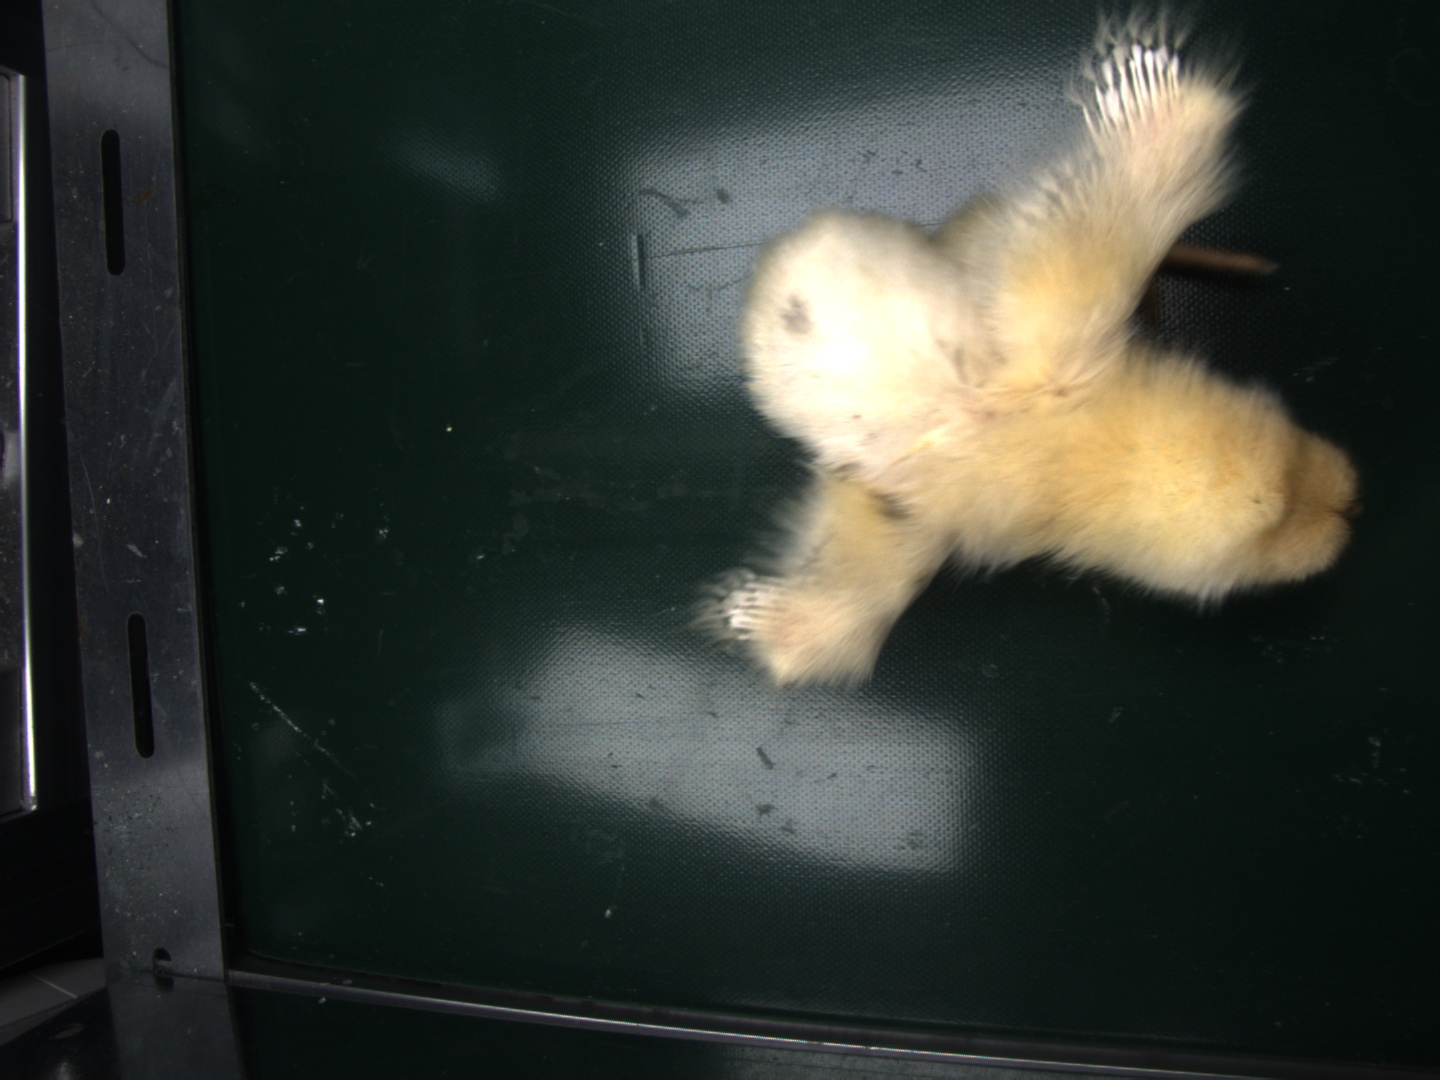male: (1077, 37, 1185, 140)
